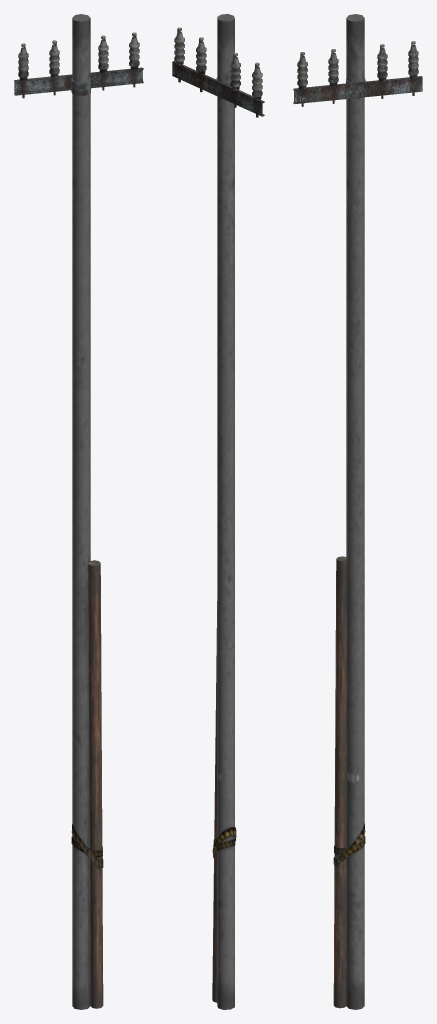
Rendered from pole_b.glb.
The picture shows the model from 3 angles, left to right: view 1: azimuth 90°, elevation 25°; view 2: azimuth 210°, elevation 25°; view 3: azimuth 270°, elevation 25°; orthographic projection.
Parts seen in each view (by area): view 1: pole_b; view 2: pole_b; view 3: pole_b.
Boxes of the visible parts, x1,y1,x2,y2 form: pole_b: (14,14,143,1009); pole_b: (172,14,264,1009); pole_b: (293,14,422,1009).
Size of the model in its own units: 0.4209 by 11.61 by 1.38.
Materials: 1 (1 with a texture image).
